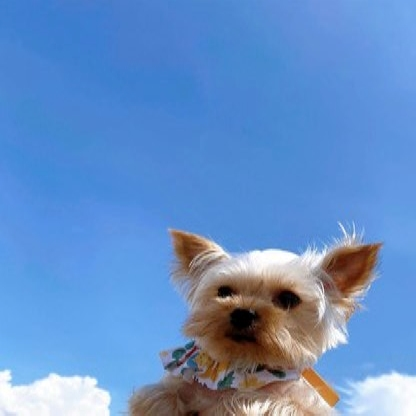yorkshire: (132, 225, 379, 416)
